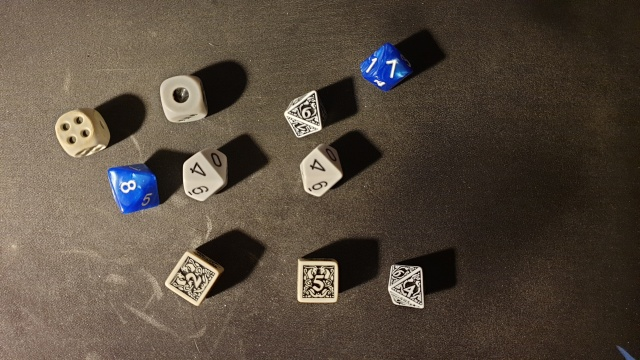d10-4: (177, 143, 243, 209), (293, 141, 352, 199)
d10-7: (353, 38, 427, 97)
d10-8: (103, 160, 167, 222)
d6-1: (156, 70, 215, 124)
d6-4: (49, 104, 116, 158)
d6p-2: (159, 246, 230, 308)
d6p-5: (292, 253, 343, 310)
d8p-4: (384, 250, 434, 316)
d8p-6: (281, 83, 328, 140)
